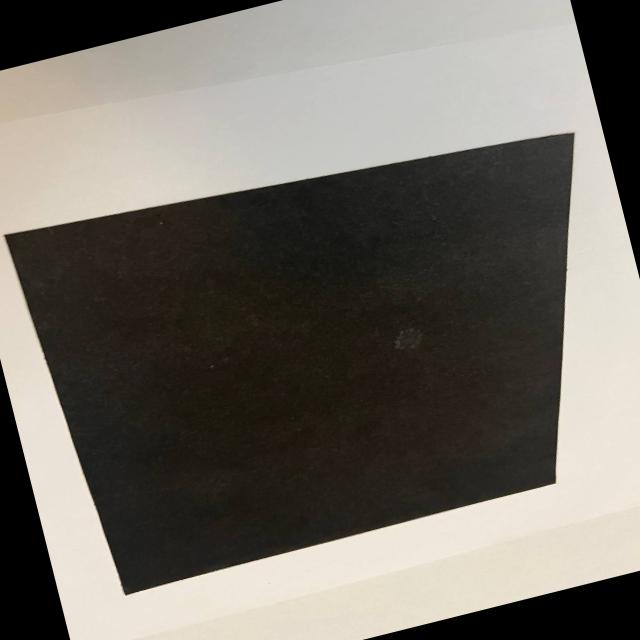Box: (6, 134, 573, 593)
